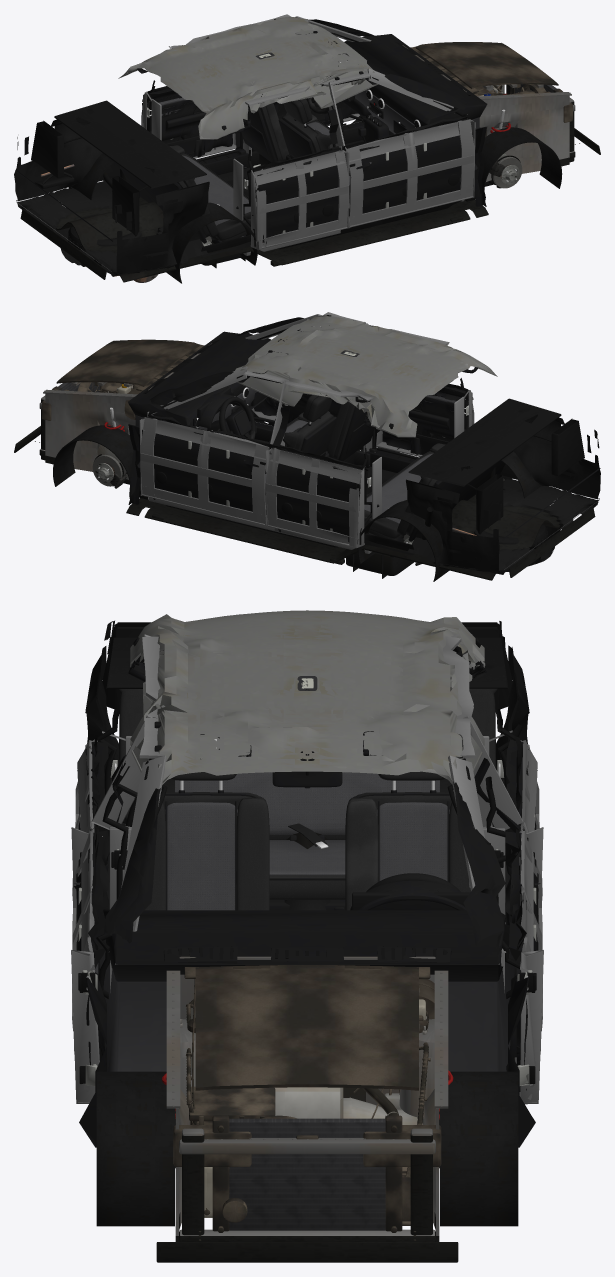
Rendered from barao_completo.glb.
The picture shows the model from 3 angles, top to bottom: view 1: azimuth 30°, elevation 25°; view 2: azimuth 150°, elevation 25°; view 3: azimuth 270°, elevation 25°; orthographic projection. The views are drawn at different scales.
Parts seen in each view (by area): view 1: interior_forro_teto, interior_portamalas_carpete, under_assoalho, door_card_fr_chapa, interior_painel, interior_portamalas_tampao, door_card_rr_chapa, engine_paralama_interno_dir, door_card_fr, hood_manta, door_card_rr, interior_banco_traseiro (+24 smaller); view 2: interior_forro_teto, interior_portamalas_carpete, under_assoalho, door_card_fl_chapa, interior_painel, interior_portamalas_tampao, door_card_rl_chapa, door_card_fl, engine_paralama_interno_esq, hood_manta, door_card_rl, interior_banco_traseiro (+29 smaller); view 3: interior_forro_teto, interior_painel, hood_manta, engine_radiador, engine_travessa, interior_banco_dianteiro_dir, interior_banco_traseiro, under_caixa_roda_fr, under_caixa_roda_fl, interior_banco_dianteiro_esq, interior_acabamento_colunas, under_saias (+27 smaller).
Boxes of the visible parts, x1,y1,x2,y2 form: interior_forro_teto: (118,17,377,139); interior_portamalas_carpete: (14,119,209,276); under_assoalho: (30,196,488,282); door_card_fr_chapa: (345,119,475,228); interior_painel: (342,34,487,169); interior_portamalas_tampao: (54,100,206,188); door_card_rr_chapa: (250,150,349,249); engine_paralama_interno_dir: (477,89,571,181); door_card_fr: (343,116,468,213); hood_manta: (415,42,558,89); door_card_rr: (252,146,341,243); interior_banco_traseiro: (102,145,250,243); interior_forro_teto: (235,315,497,437); interior_portamalas_carpete: (406,417,600,574); under_assoalho: (126,494,588,580); door_card_fl_chapa: (139,417,269,526); interior_painel: (128,331,270,467); interior_portamalas_tampao: (408,398,561,486); door_card_rl_chapa: (265,448,365,548); door_card_fl: (147,414,269,511); engine_paralama_interno_esq: (43,388,137,479); hood_manta: (56,339,199,387); door_card_rl: (274,445,362,543); interior_banco_traseiro: (364,443,512,541); interior_forro_teto: (128,610,486,784); interior_painel: (99,880,514,1071); hood_manta: (195,965,419,1090); engine_radiador: (212,1115,402,1232); engine_travessa: (173,1088,441,1241); interior_banco_dianteiro_dir: (123,772,269,910); interior_banco_traseiro: (110,675,504,910); under_caixa_roda_fr: (96,1071,174,1226); under_caixa_roda_fl: (440,1071,518,1226); interior_banco_dianteiro_esq: (345,771,470,910); interior_acabamento_colunas: (104,710,519,945); under_saias: (156,1242,458,1262).
Size of what is drawn, in the model's own units: 4.16 by 1.47 by 1.69.
55 materials, 55 textured.
